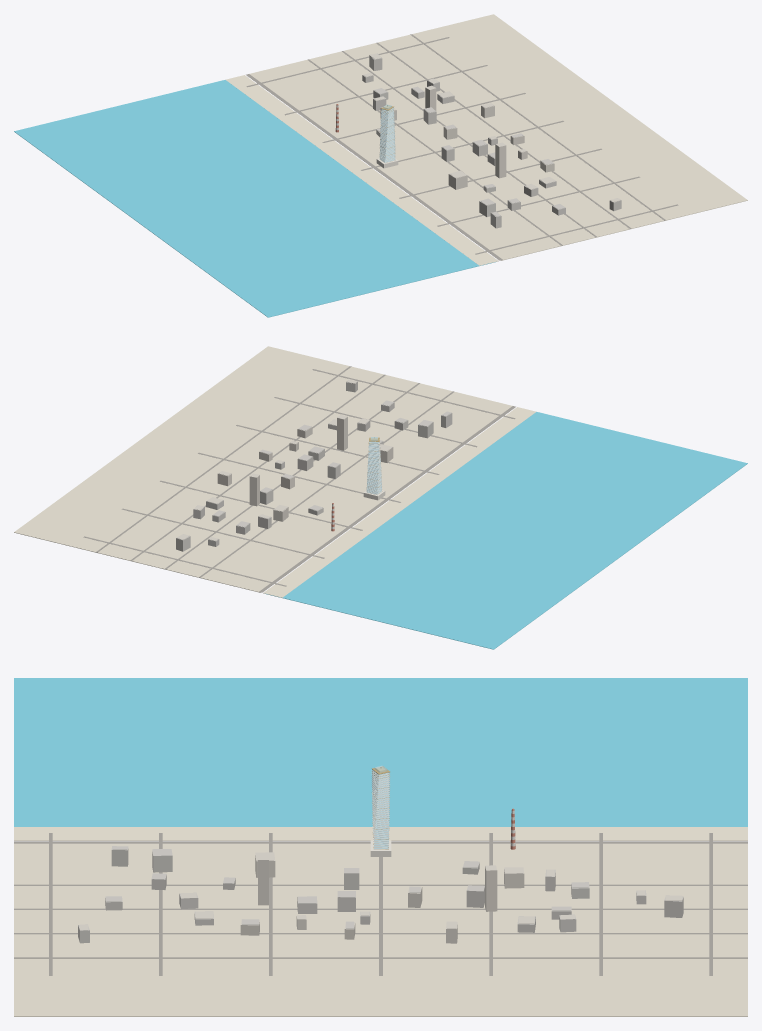
The model's file is rainbow.glb.
3 views of the same model, one above another, from view 1: azimuth 30°, elevation 25°; view 2: azimuth 150°, elevation 25°; view 3: azimuth 270°, elevation 25° (orthographic). The views are drawn at different scales.
Parts seen in each view (by area): view 1: scene; view 2: scene; view 3: scene.
Part boxes in pixels (x1,y1,x2,y2): scene: (14, 14, 747, 317); scene: (14, 346, 747, 649); scene: (14, 678, 747, 1016).
Bounding box in the file's own units: 1090 × 129 × 1000.
